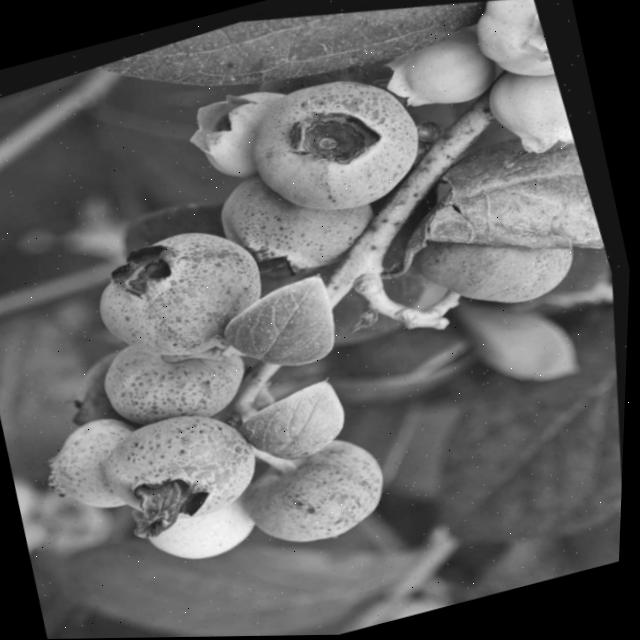RipeBlueBerry: (225, 36, 465, 249), (72, 188, 298, 387)
Semi-RipeBlueBerry: (81, 375, 290, 554), (233, 412, 413, 570)
UnripeBlueBerry: (470, 0, 566, 103)
